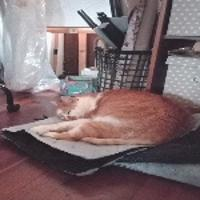asleep: (32, 89, 193, 145)
